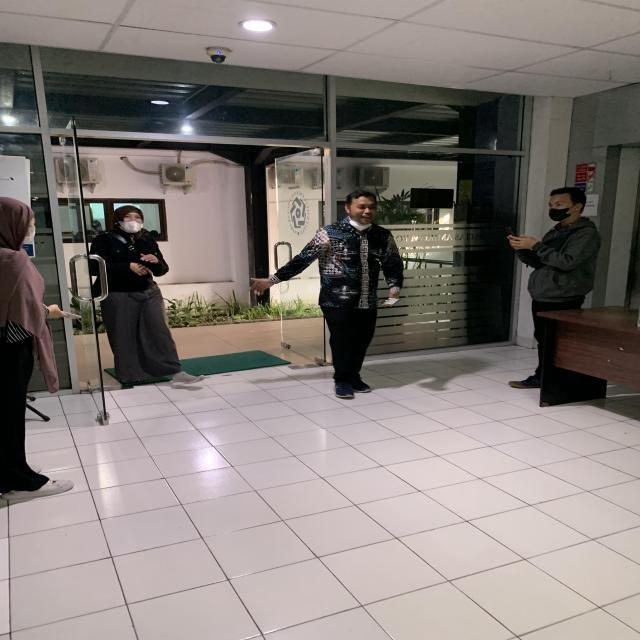hairnet: (334, 190, 400, 234)
